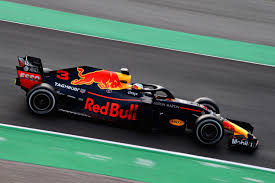FormulaOneCar: (12, 51, 263, 156)
